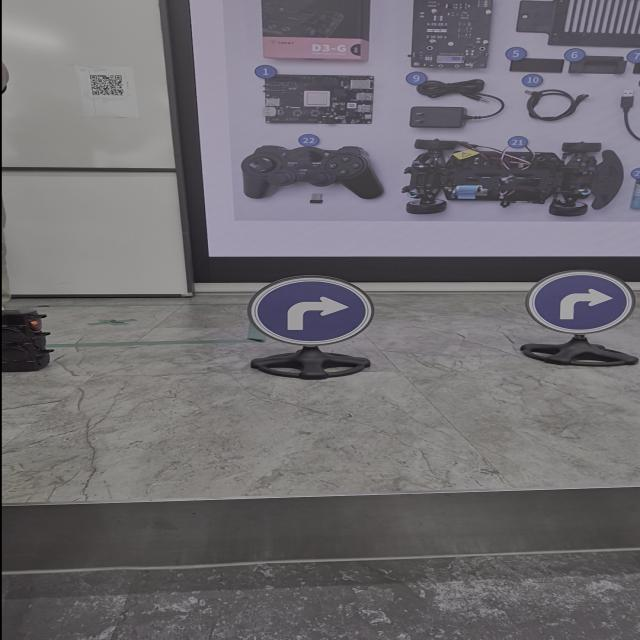right_dierection: (241, 271, 369, 348)
